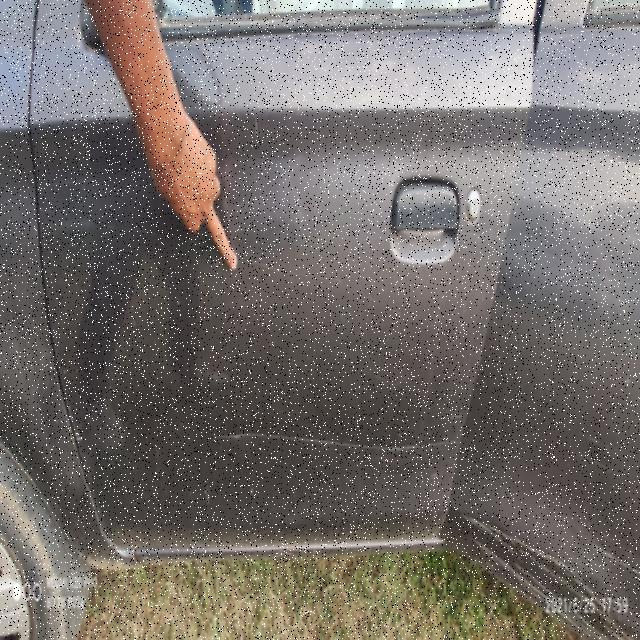doorouter-dent: (78, 47, 466, 552)
